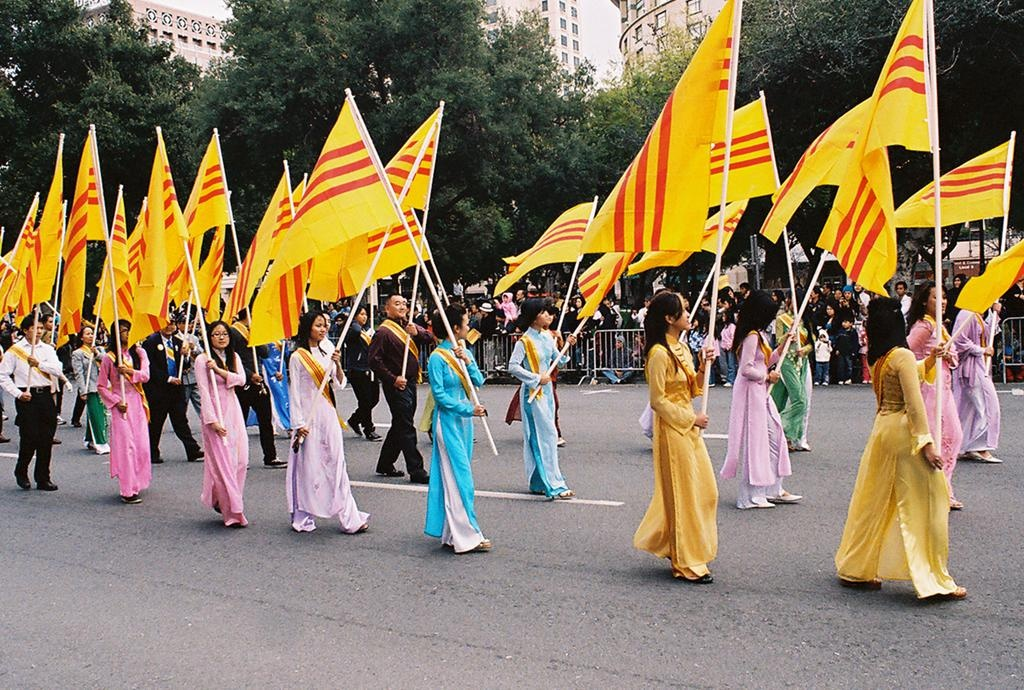human_face: (926, 289, 946, 313), (670, 302, 688, 328), (306, 316, 324, 340), (386, 296, 406, 316), (211, 326, 229, 346), (453, 316, 469, 338), (26, 322, 42, 340), (534, 305, 546, 325), (118, 325, 132, 341), (319, 314, 331, 332), (162, 319, 174, 335), (355, 309, 367, 323), (178, 316, 190, 330), (82, 328, 92, 342), (45, 316, 55, 328), (826, 305, 834, 315), (896, 285, 904, 295), (700, 300, 708, 310), (842, 318, 848, 328), (854, 281, 860, 291), (516, 290, 522, 300), (954, 278, 960, 287), (844, 291, 850, 299), (834, 291, 840, 299), (809, 289, 815, 297), (644, 298, 650, 306), (682, 299, 688, 307), (603, 300, 609, 308), (492, 299, 498, 307), (336, 316, 342, 324), (718, 298, 722, 308), (818, 333, 824, 339), (745, 292, 751, 298), (616, 340, 622, 346), (502, 294, 508, 300), (470, 304, 476, 310), (822, 284, 826, 292), (722, 313, 726, 321), (722, 300, 726, 308), (740, 286, 744, 294), (576, 299, 580, 307)
